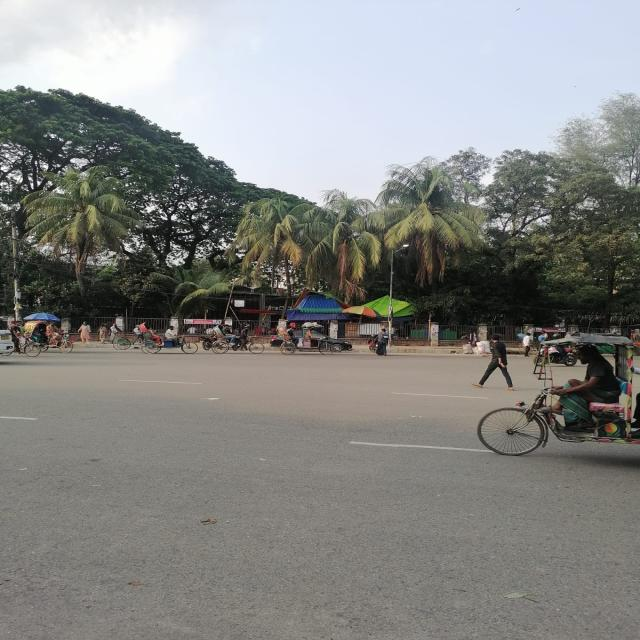person: (472, 334, 514, 390)
